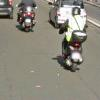Motorcycle: (57, 10, 91, 77)
